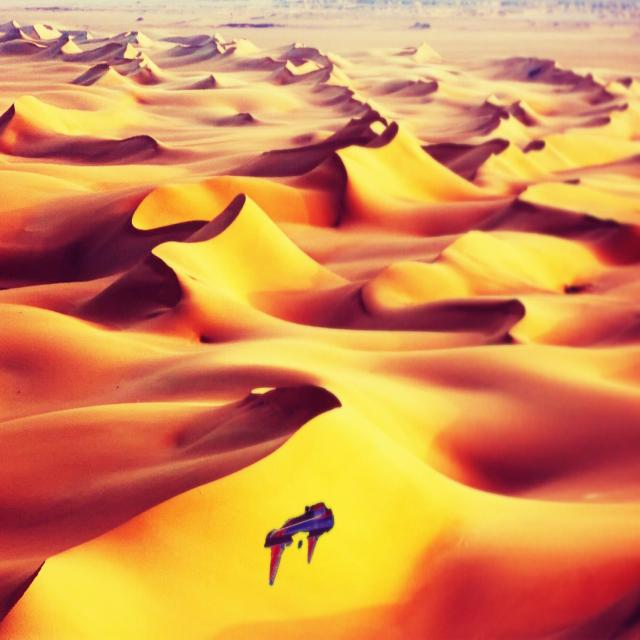airplane: (263, 501, 334, 585)
